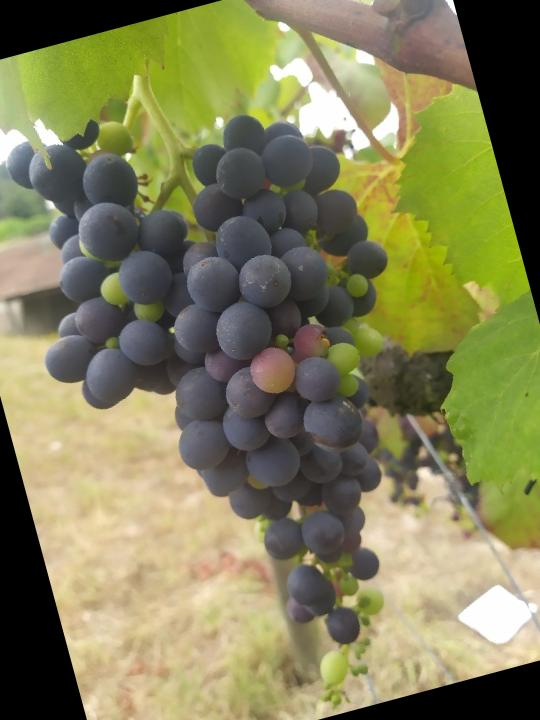grape: (0, 57, 496, 720)
